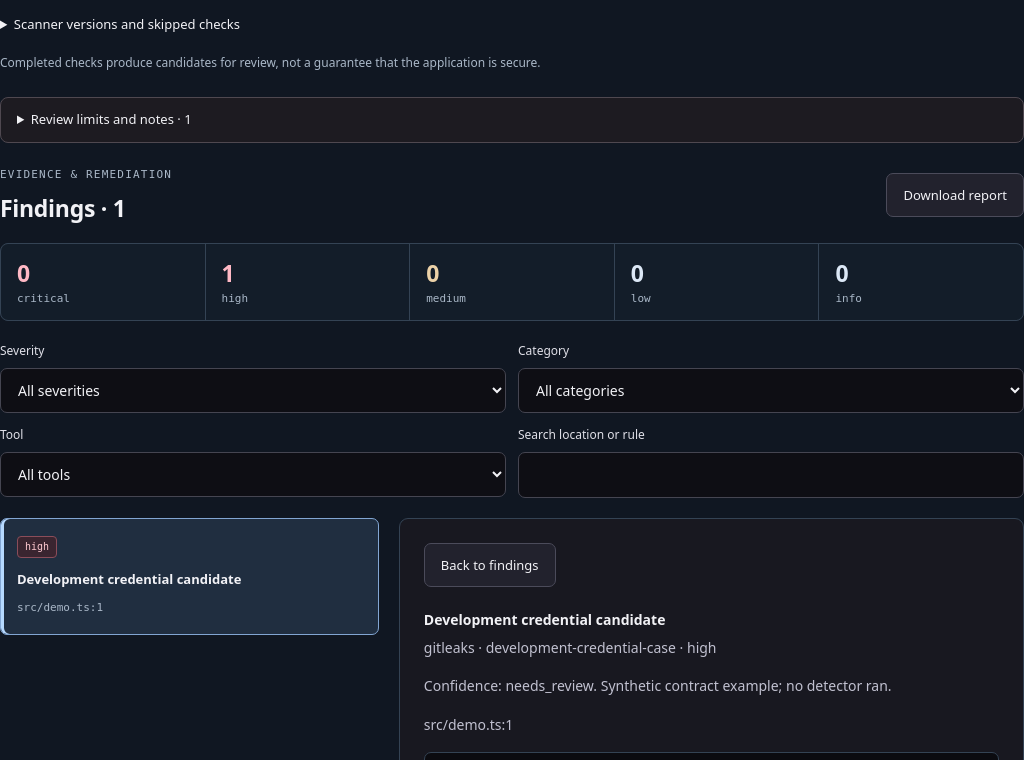
shows attributed escaped evidence and filter-empty state
(page scrolled)
Select "info" in the dropdown labelled "Severity": {"x": 253, "y": 390} [0,368,506,413]
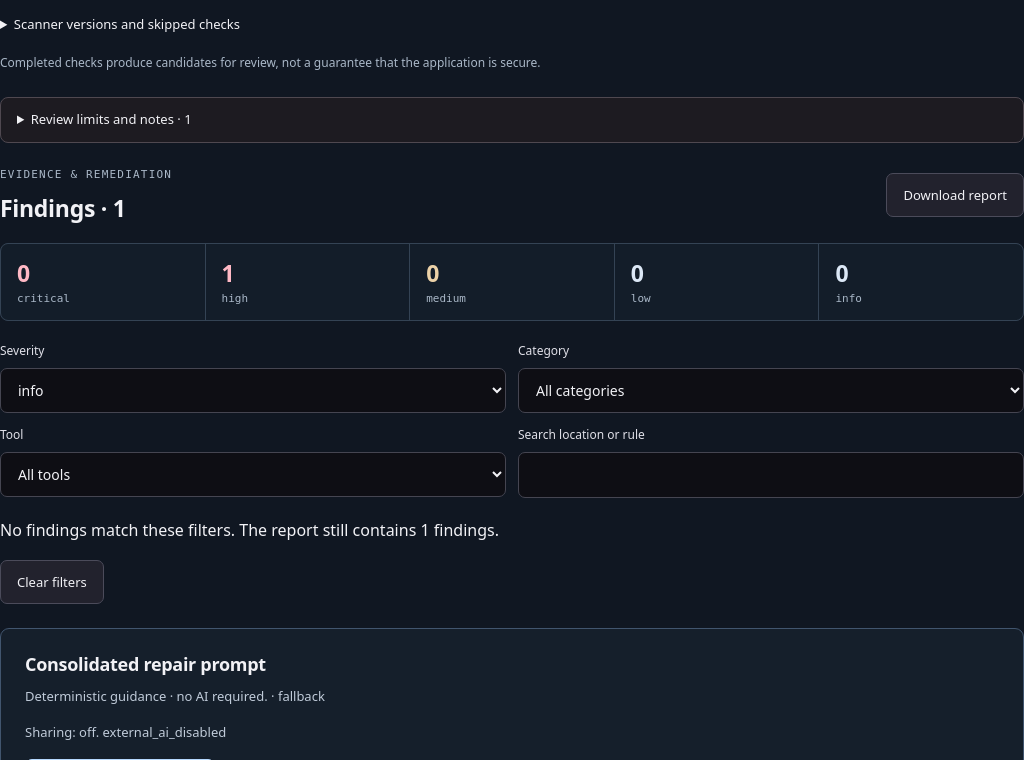
Expected: the text "No findings match these filters" is shown, [0,519,420,541]
Click the button "Clear filters": {"x": 52, "y": 582} [0,560,104,604]
(page scrolled)
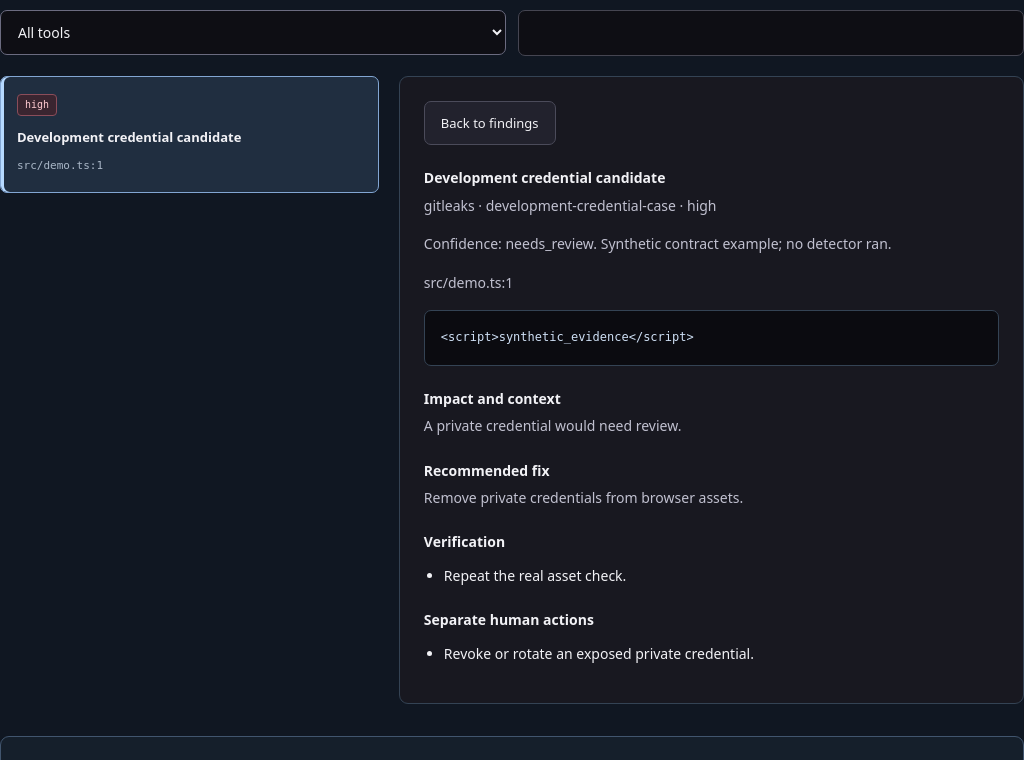
Expected: the list named "Findings" is shown, [0,76,379,193]
